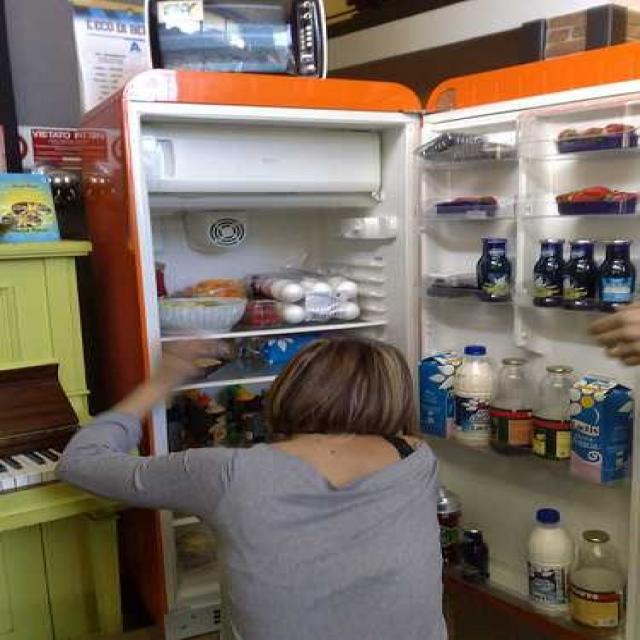refrigerator: (122, 69, 638, 622)
